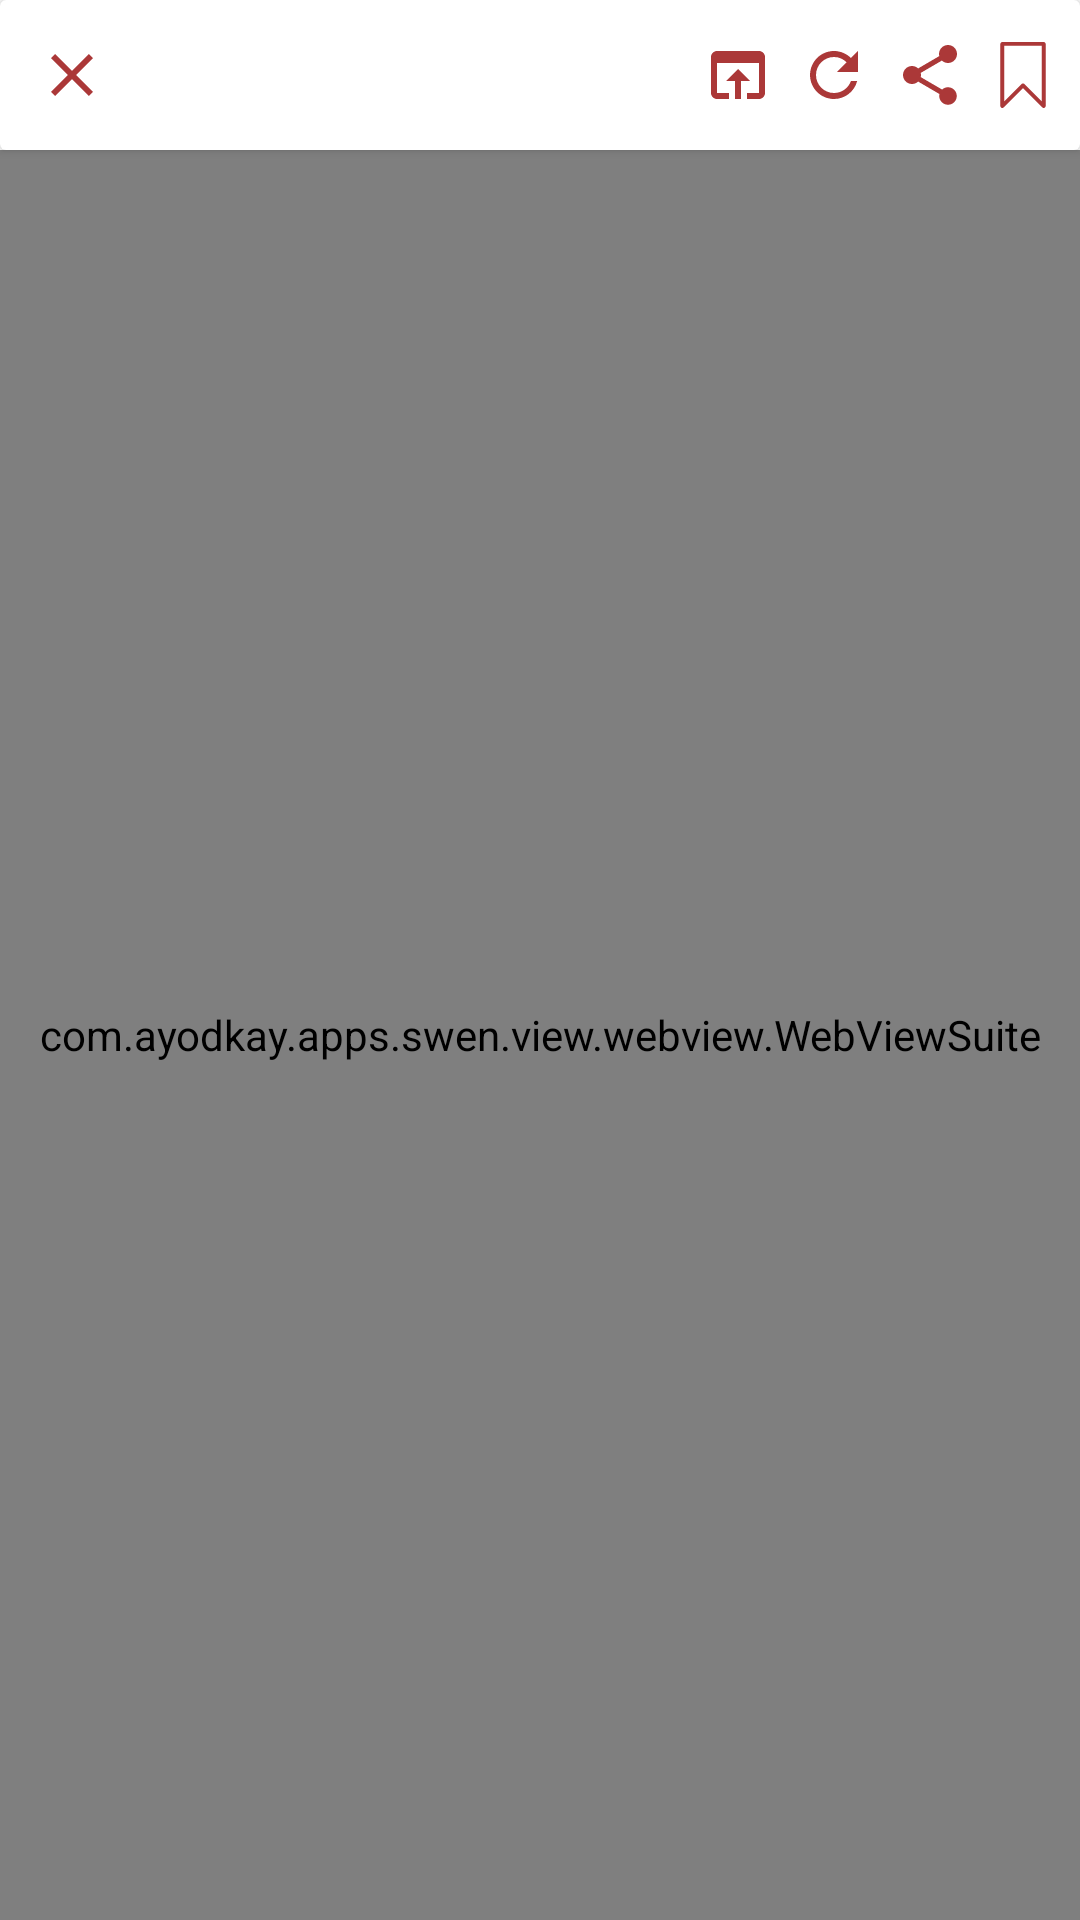

Icon click points for this 1080×1920 phone screenshot, format point (x, y):
bookmark: point (1023, 75)
close: point (72, 75)
open in browser: point (738, 75)
refresh: point (834, 75)
share: point (930, 75)
